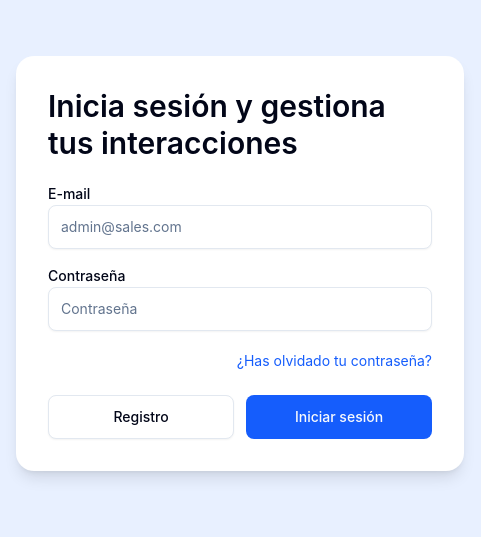
Scenario: LoginPage › muestra error cuando el email tiene formato inválido
This screenshot has width=481, height=537.
Simula escritura carácter a carácter disparando los eventos de teclado.
Type "esto-no-es-un-email" into the field with placeholder "admin@sales.com" at point(240, 226), box [48,204,432,248]
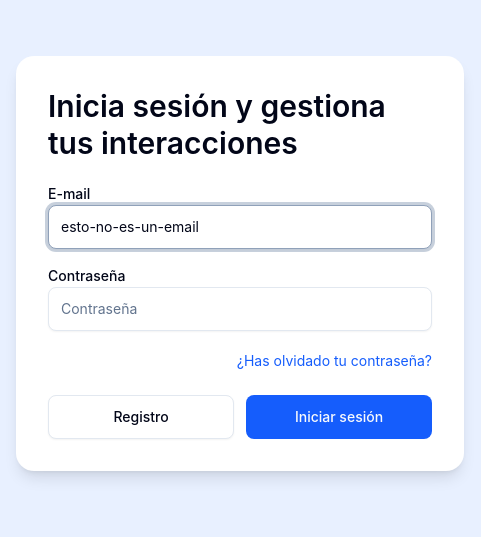
Click the button "Iniciar sesión" at point(339, 416), box [246,394,432,438]
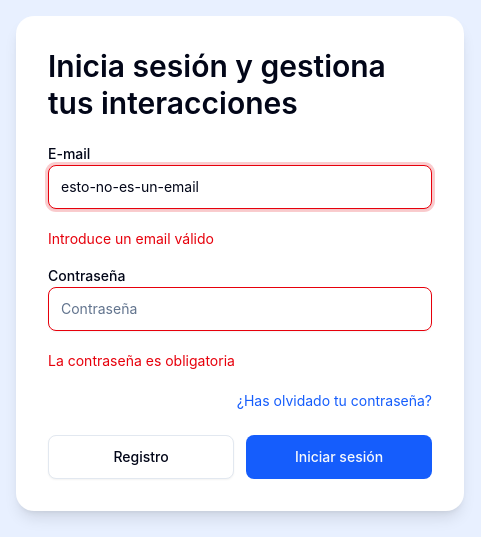
Expected: the text "Introduce un email válido" is shown, [48,230,214,246]
